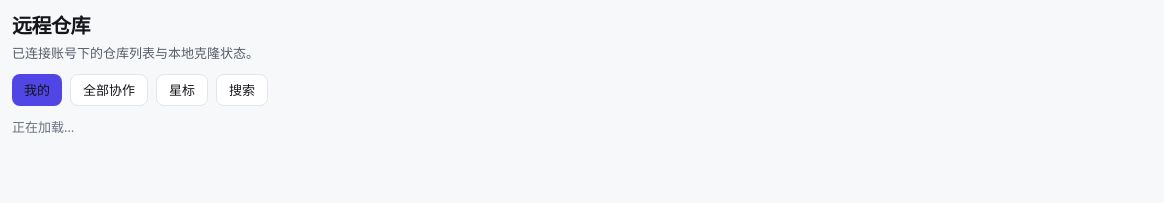
Test: GitHubReposPage — 星标语义 › "星标"标签里按钮是取消星标，成功后条目移出列表
This screenshot has width=1164, height=203.
Click the button with test id "repos-tab-starred" at (182, 90), box x1=156 y1=74 x2=208 y2=106
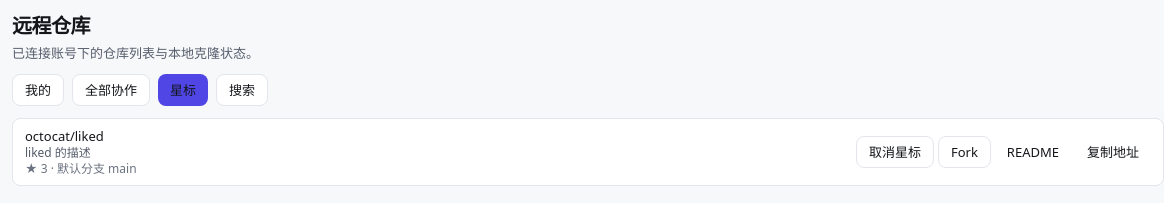
Expected: the button with test id "repos-star-liked" is shown
Click the button with test id "repos-star-liked" at (895, 152), box x1=856 y1=136 x2=934 y2=168
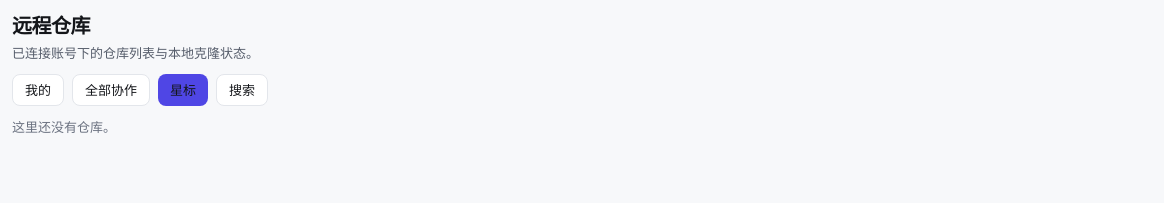
Expected: the list item with test id "repos-item" is gone
